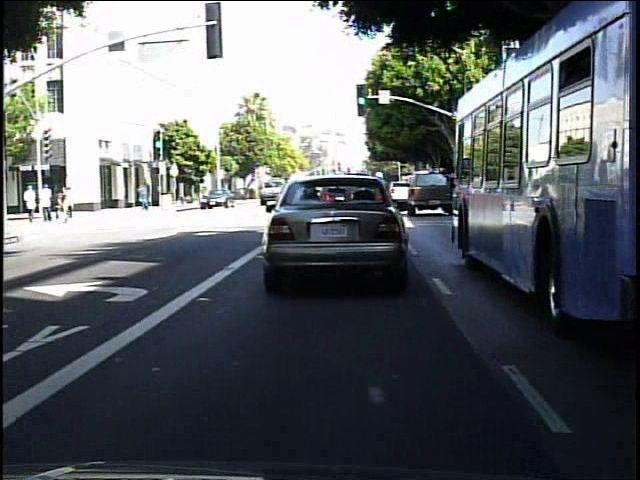person: (21, 180, 38, 224), (38, 182, 54, 223), (134, 179, 152, 215), (55, 183, 70, 223), (52, 187, 63, 221), (64, 181, 65, 221)
